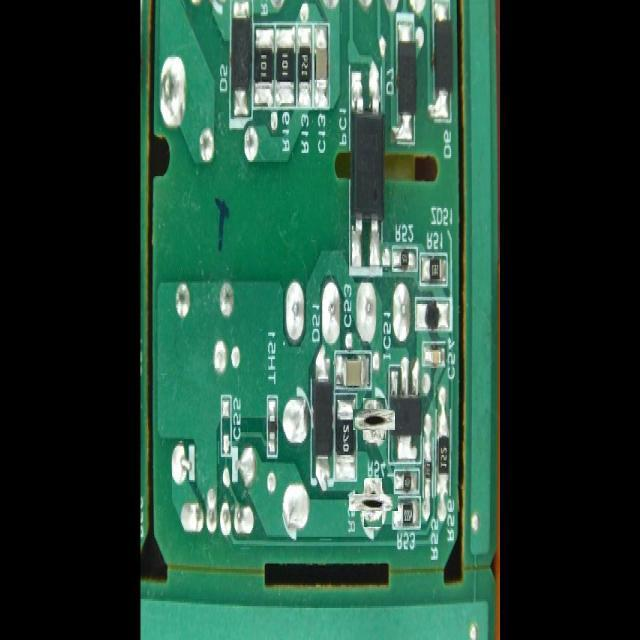damged: (357, 486, 390, 519), (358, 404, 390, 436)
